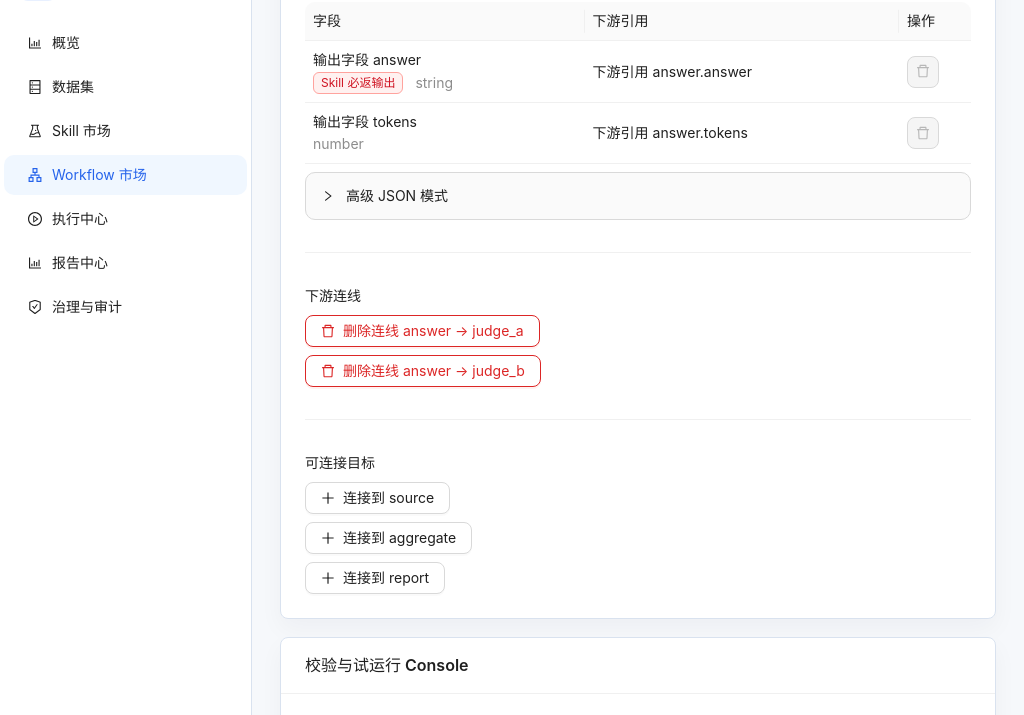
Test: AegisQA 前端工作台 › Workflow Inspector 支持查看并删除选中节点的下游连线
This screenshot has width=1024, height=715.
(page scrolled)
Step 1. Click the button "删除连线 answer -> judge_a" → (422, 331), box [305, 315, 540, 347]
(page scrolled)
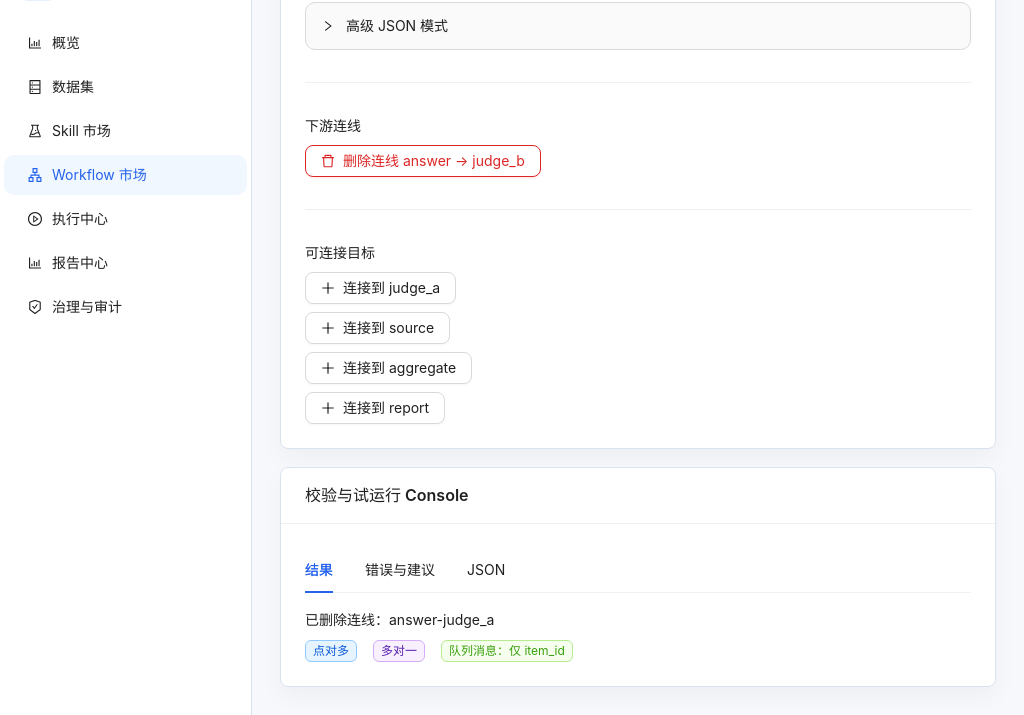
Check: the text "已删除连线：answer-judge_a" is shown, box [305, 611, 494, 628]
